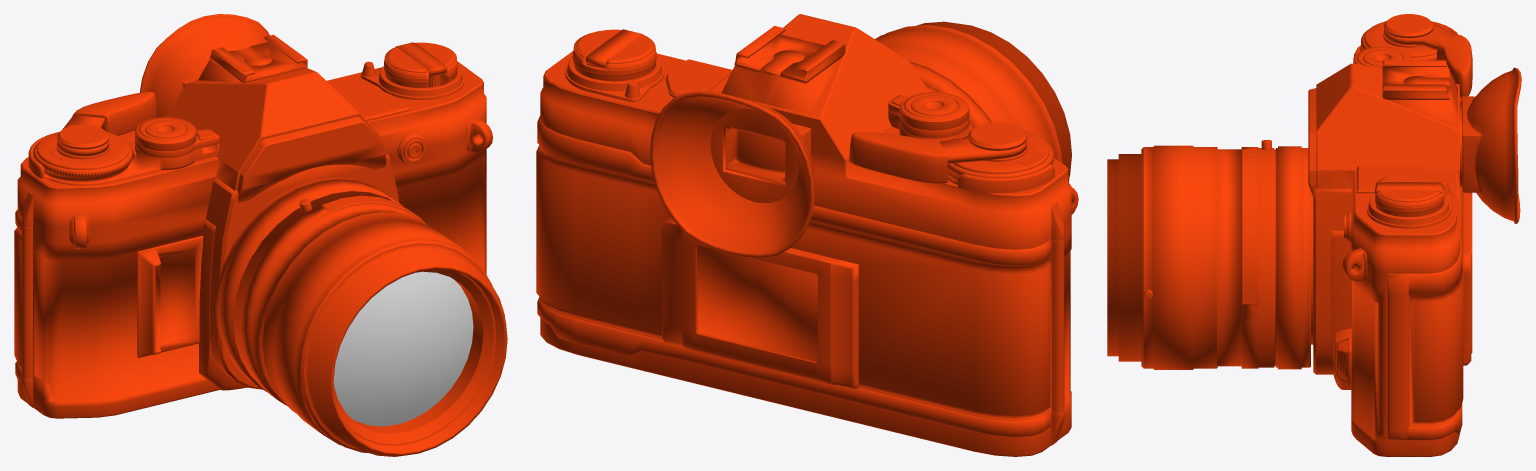
File: cinematic.glb
The picture shows the model from 3 angles, left to right: view 1: azimuth 30°, elevation 25°; view 2: azimuth 150°, elevation 25°; view 3: azimuth 270°, elevation 25°; orthographic projection. The views are drawn at different scales.
Visible parts, largest first — view 1: #CAM0001_Body, #CAM0001_Film_Advance, #CAM0001_Spool, #CAM0001_Shutter_Speed, #CAM0001_Shutter, #CAM0001_Battery_Check; view 2: #CAM0001_Body, #CAM0001_Film_Advance, #CAM0001_Spool, #CAM0001_Shutter, #CAM0001_Shutter_Speed, #CAM0001_Battery_Check; view 3: #CAM0001_Body, #CAM0001_Spool, #CAM0001_Film_Advance, #CAM0001_Battery_Check, #CAM0001_Shutter_Speed, #CAM0001_Shutter.
Part boxes in pixels (x1,y1,x2,y2): #CAM0001_Body: (14,14,507,456); #CAM0001_Film_Advance: (57,91,157,156); #CAM0001_Spool: (383,42,457,87); #CAM0001_Shutter_Speed: (33,132,132,181); #CAM0001_Shutter: (135,117,219,157); #CAM0001_Battery_Check: (360,61,464,99); #CAM0001_Body: (536,14,1078,456); #CAM0001_Film_Advance: (849,132,1026,183); #CAM0001_Spool: (572,29,656,81); #CAM0001_Shutter: (888,92,969,138); #CAM0001_Shutter_Speed: (947,131,1053,179); #CAM0001_Battery_Check: (565,56,664,102); #CAM0001_Body: (1107,14,1521,456); #CAM0001_Spool: (1375,173,1444,216); #CAM0001_Film_Advance: (1384,23,1472,97); #CAM0001_Battery_Check: (1366,180,1451,228); #CAM0001_Shutter_Speed: (1361,21,1452,60); #CAM0001_Shutter: (1353,46,1412,69).
Size of the model in its own units: 0.1439 by 0.0898 by 0.1182.
